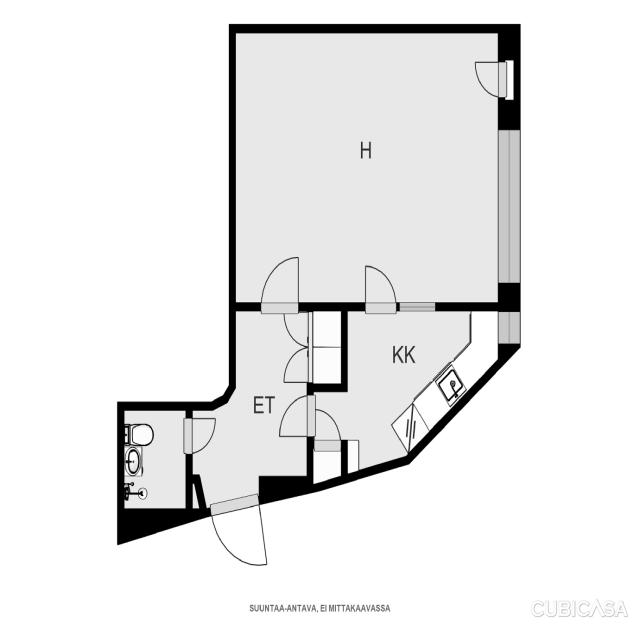door: (206, 498, 266, 566), (258, 252, 305, 311), (361, 262, 399, 309), (182, 411, 220, 456), (471, 58, 512, 99), (278, 393, 313, 439), (280, 309, 313, 348), (281, 345, 313, 385), (310, 405, 343, 443)
window: (500, 124, 522, 284), (497, 307, 522, 348), (397, 298, 439, 314)
zone: (234, 24, 514, 310), (345, 309, 460, 466), (230, 308, 309, 490), (122, 411, 188, 512)
